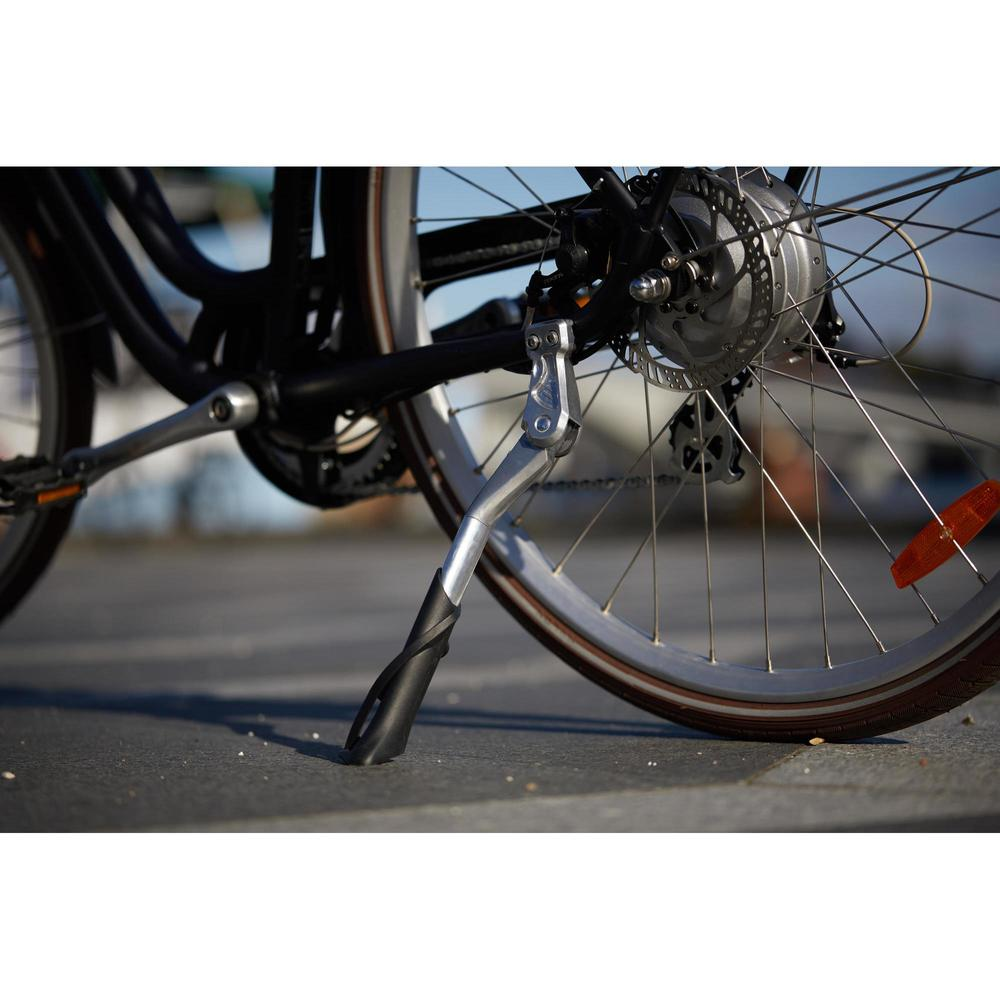UrbanBike: (0, 101, 996, 767)
